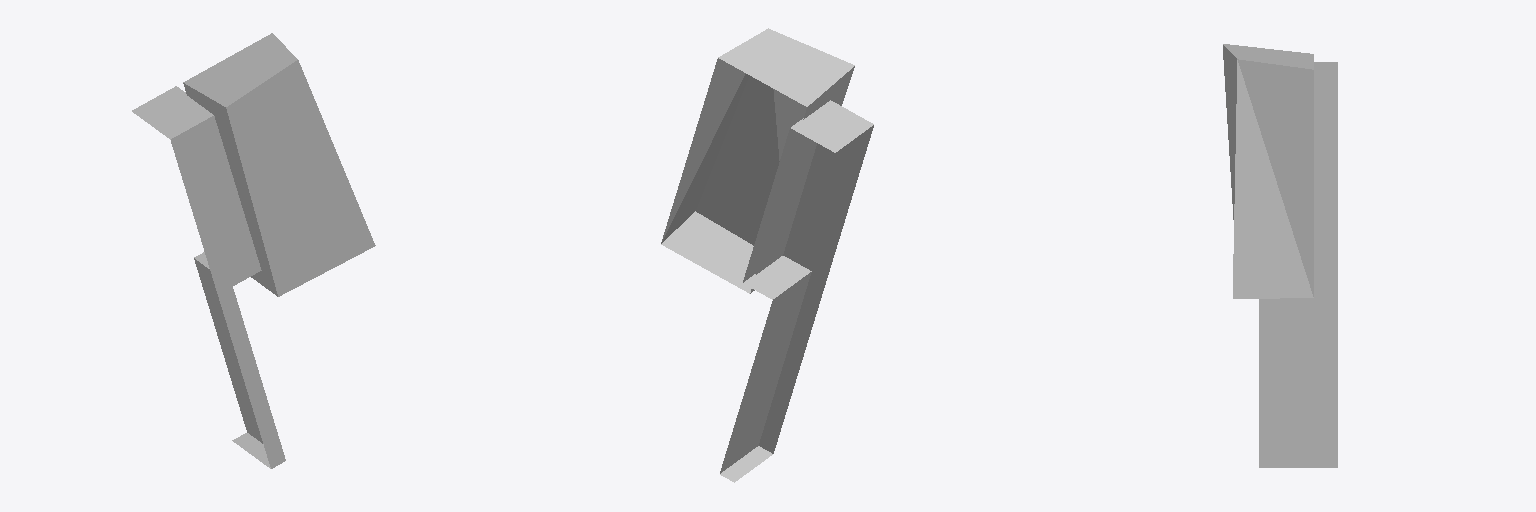
Rendered from Opt3-Glass.obj.
The picture shows the model from 3 angles: view 1: azimuth 30°, elevation 25°; view 2: azimuth 150°, elevation 25°; view 3: azimuth 270°, elevation 25°; orthographic projection.
Size of the model in its own units: 122 by 251 by 63.19.